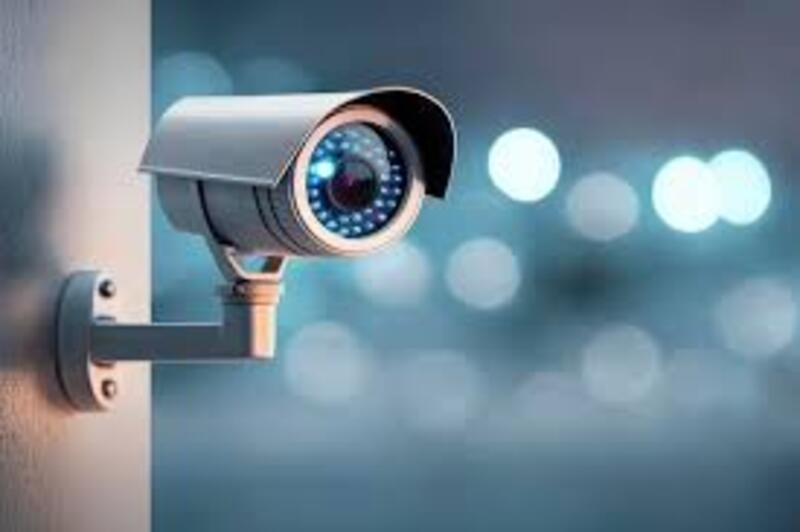bullet: (138, 84, 461, 269)
